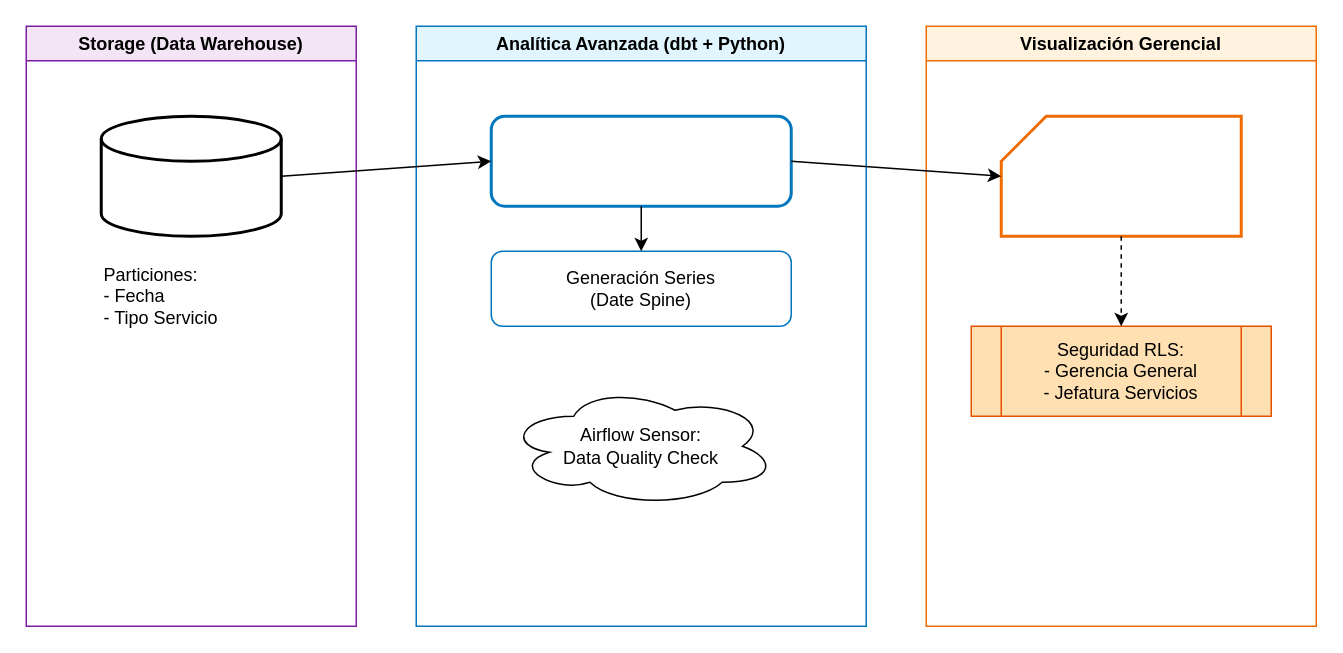
The diagram is 1343 pixels wide and 653 high, and some of its shapes have lost their labels. The centre of each missing label's shape, as x and y in pixels:
"DuckDB / Postgres (Histórico 15 días)" goes at (x=190, y=175).
"Macros Eficiencia (dbt Logic)" goes at (x=640, y=160).
"Power BI (Dashboard Tendencias)" goes at (x=1120, y=175).
